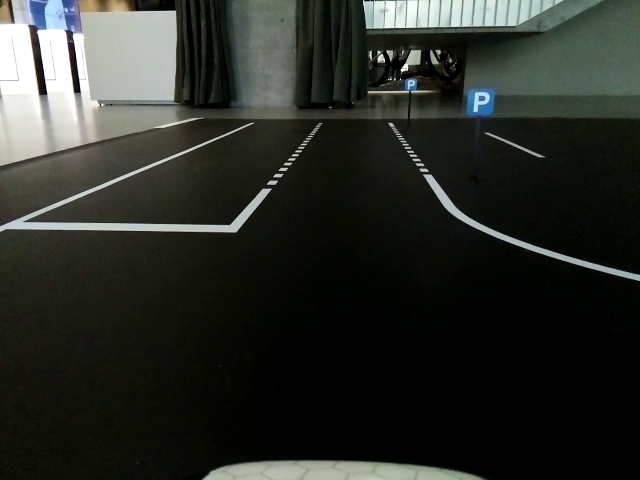park: (467, 88, 493, 117), (406, 79, 416, 90)
